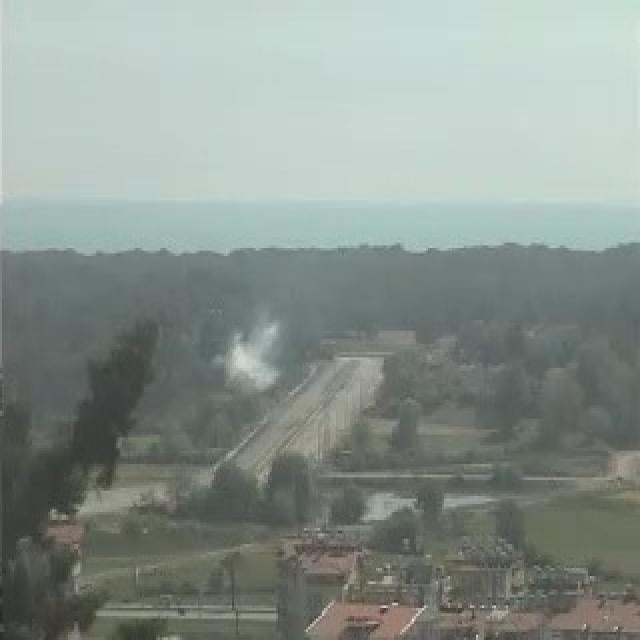smoke: (220, 306, 286, 392)
